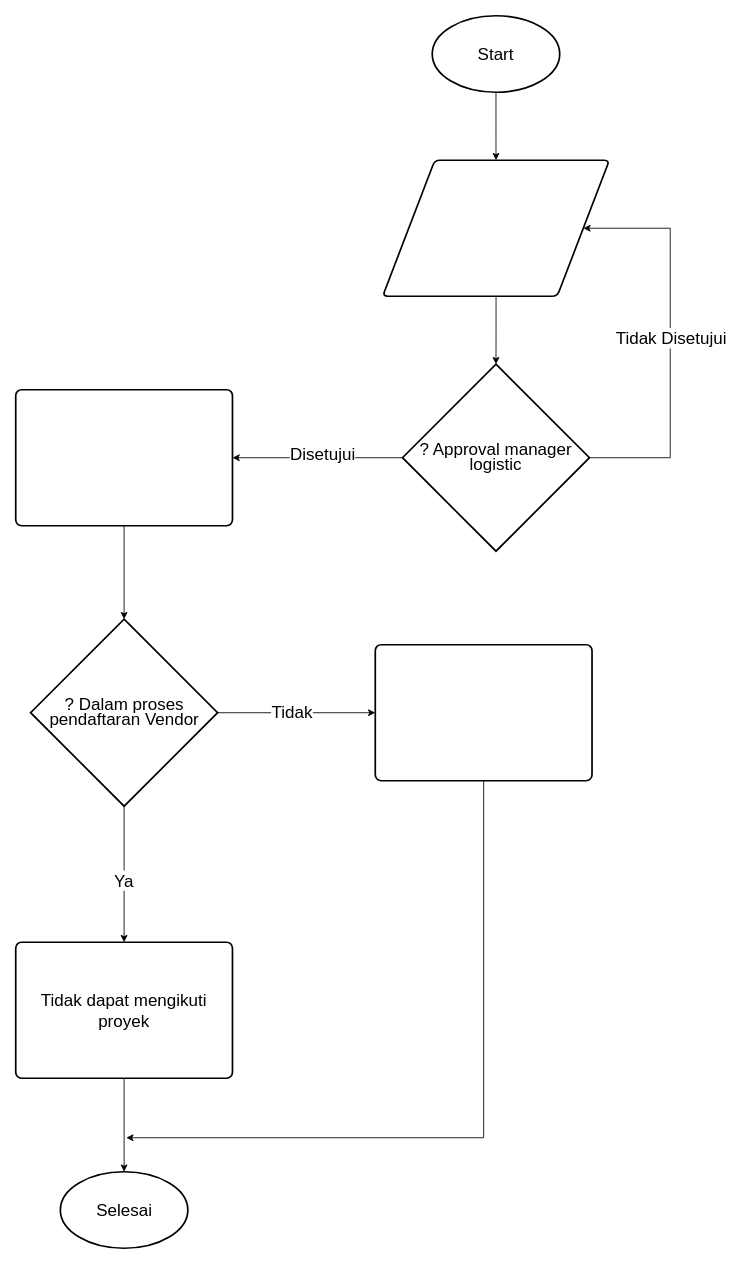
Some shapes in this 740 by 1263 pixel diagram are drawn without their labels. The box of each missing label's shape, as (x1, y1, x2, y2) in pixels:
Melengkapi data V endor: (14, 388, 233, 526)
Registrasi: (381, 159, 610, 297)
Submit tender Proyek: (374, 643, 592, 781)
